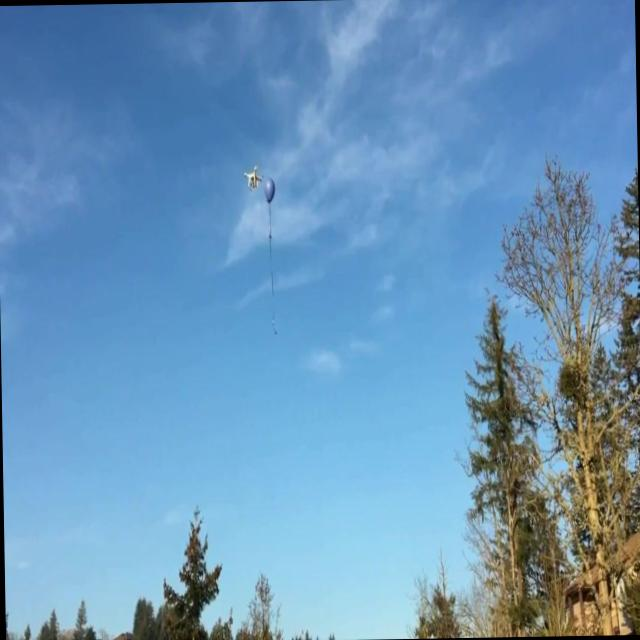drone: (242, 165, 263, 190)
